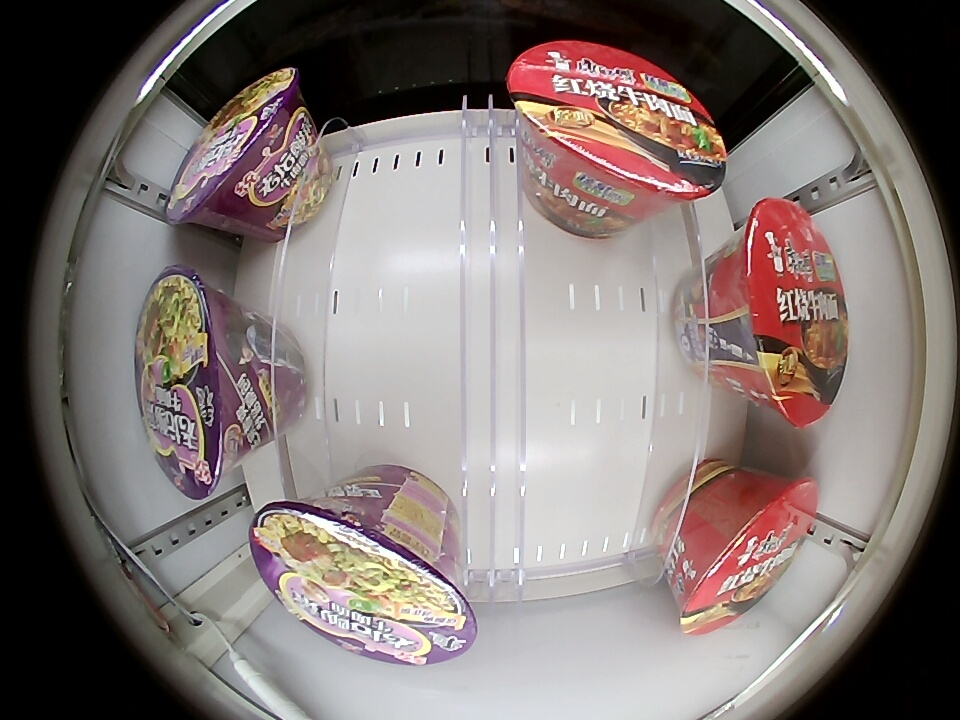hongshaoniurou: (509, 41, 726, 206), (721, 197, 848, 425), (673, 475, 817, 635)
laotansuancai: (250, 489, 476, 666), (135, 267, 257, 500), (166, 68, 312, 231)
